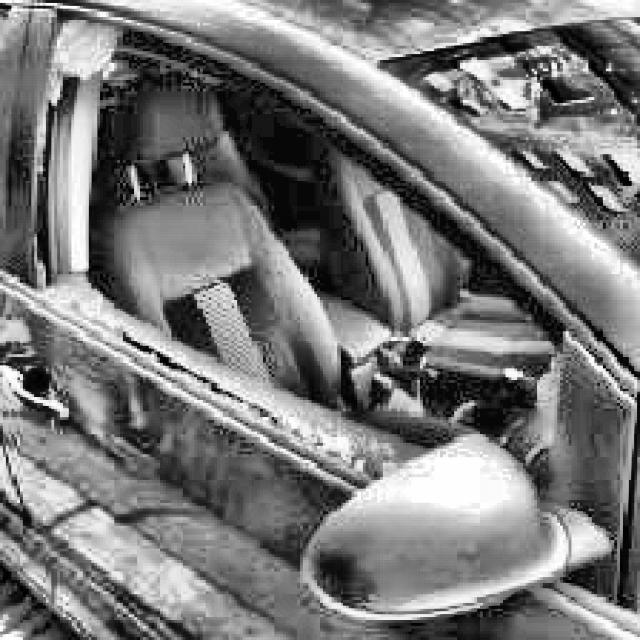glass_shatter: (324, 263, 558, 472), (39, 27, 154, 330)
